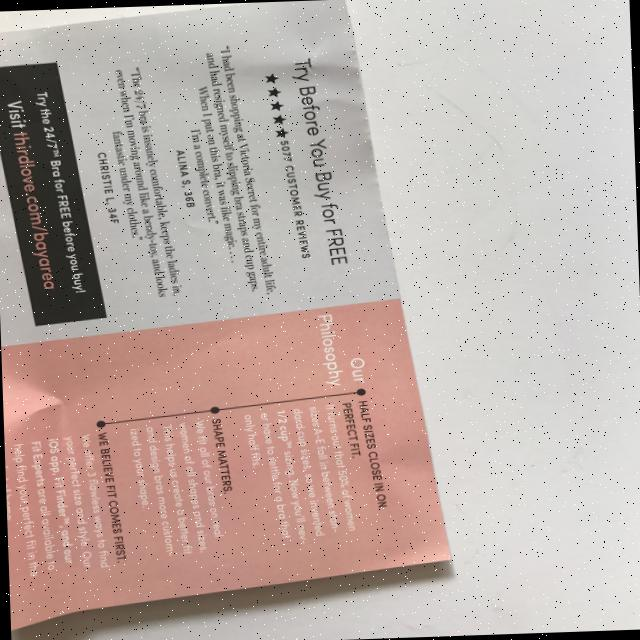paper: (0, 0, 453, 631)
